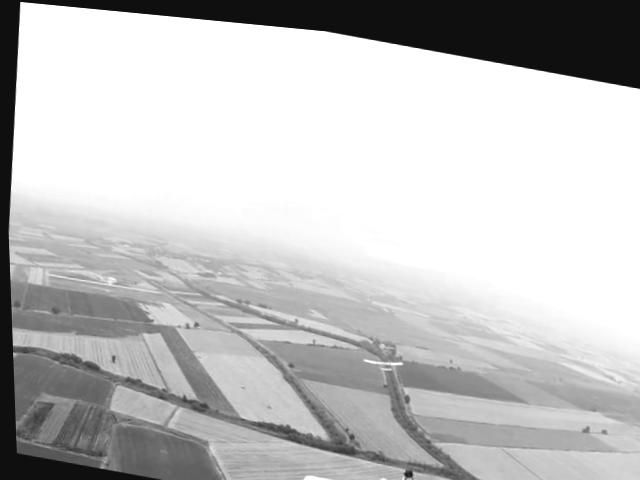hedef: (293, 435, 522, 480)
